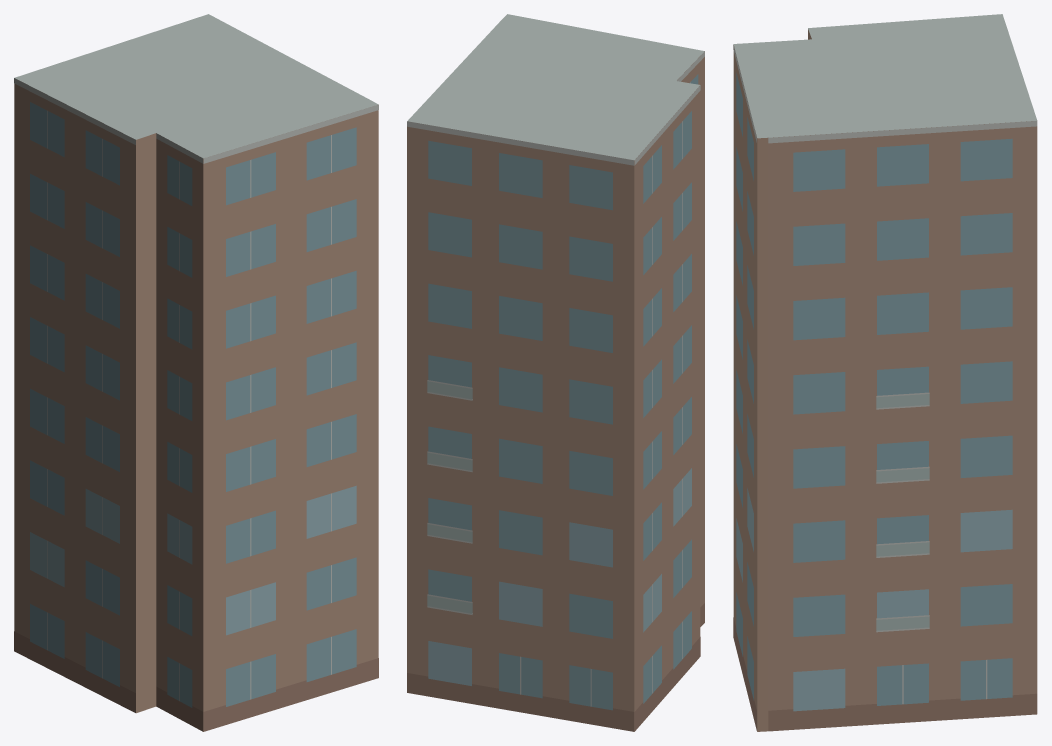
The model's file is survey-upis-32642806.glb.
3 renders of one model, left to right at view 1: azimuth 30°, elevation 25°; view 2: azimuth 150°, elevation 25°; view 3: azimuth 270°, elevation 25°, orthographic. The views are drawn at different scales.
Parts seen in each view (by area): view 1: survey-upis-32642806.tmp; view 2: survey-upis-32642806.tmp; view 3: survey-upis-32642806.tmp.
Part boxes in pixels (box(x1,y1,x2,y2)): survey-upis-32642806.tmp: box(14, 14, 378, 731); survey-upis-32642806.tmp: box(407, 14, 704, 731); survey-upis-32642806.tmp: box(733, 14, 1037, 731).
Bounding box in the file's own units: 11.46 × 25.5 × 11.84.
